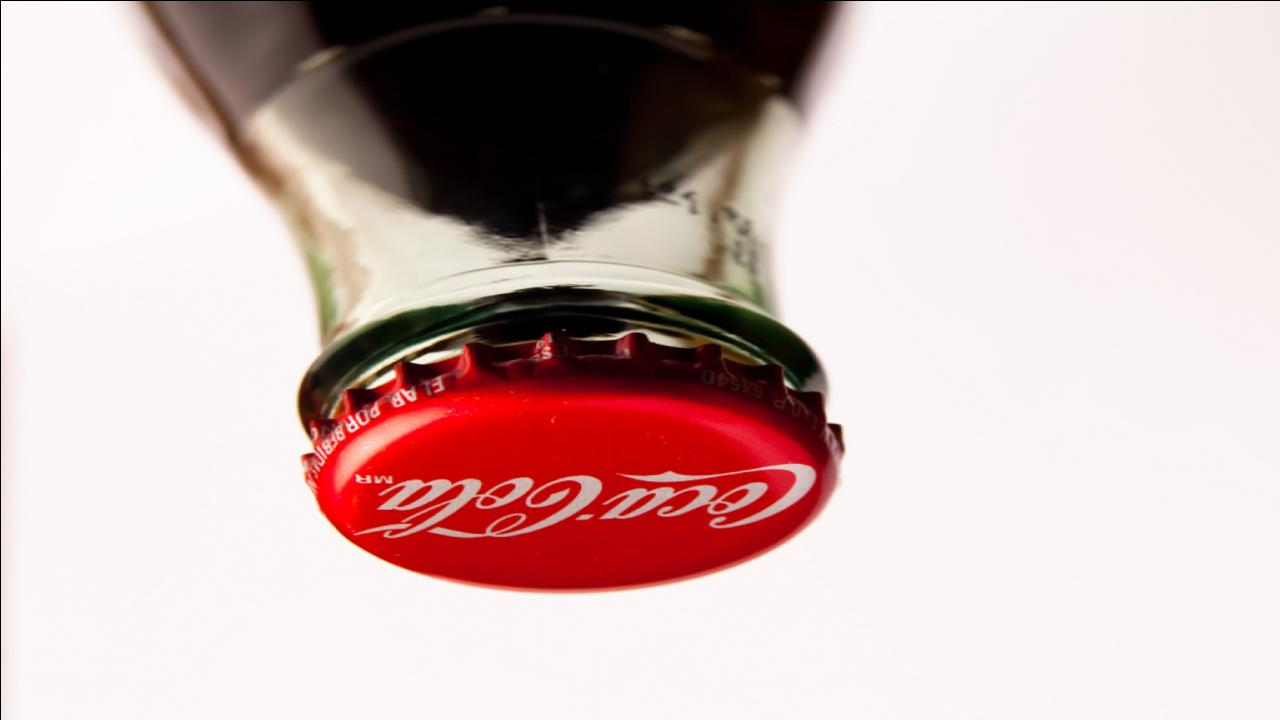bottle_cap: (303, 332, 846, 598)
